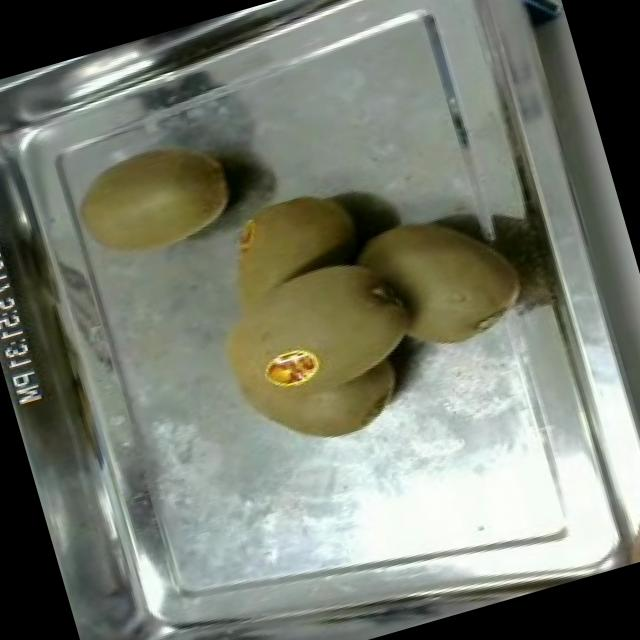Fruit: (173, 170, 430, 474), (337, 187, 543, 378), (59, 120, 251, 280)
